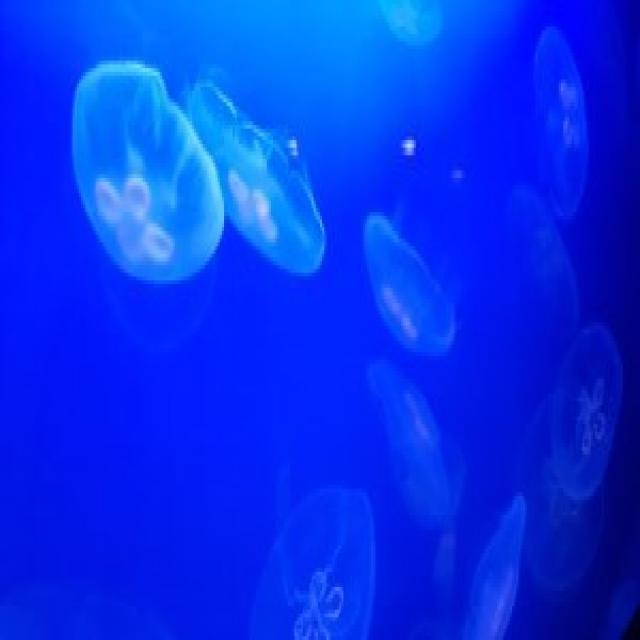Jellyfish: (54, 50, 234, 289), (199, 52, 336, 289), (245, 490, 381, 640), (360, 190, 476, 361), (365, 174, 466, 353), (526, 22, 604, 202), (373, 361, 452, 523), (536, 320, 630, 454), (494, 191, 576, 307), (466, 484, 525, 640), (519, 464, 587, 598), (369, 0, 446, 53)
